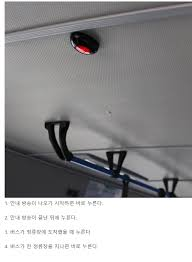bell: (69, 32, 104, 57)
